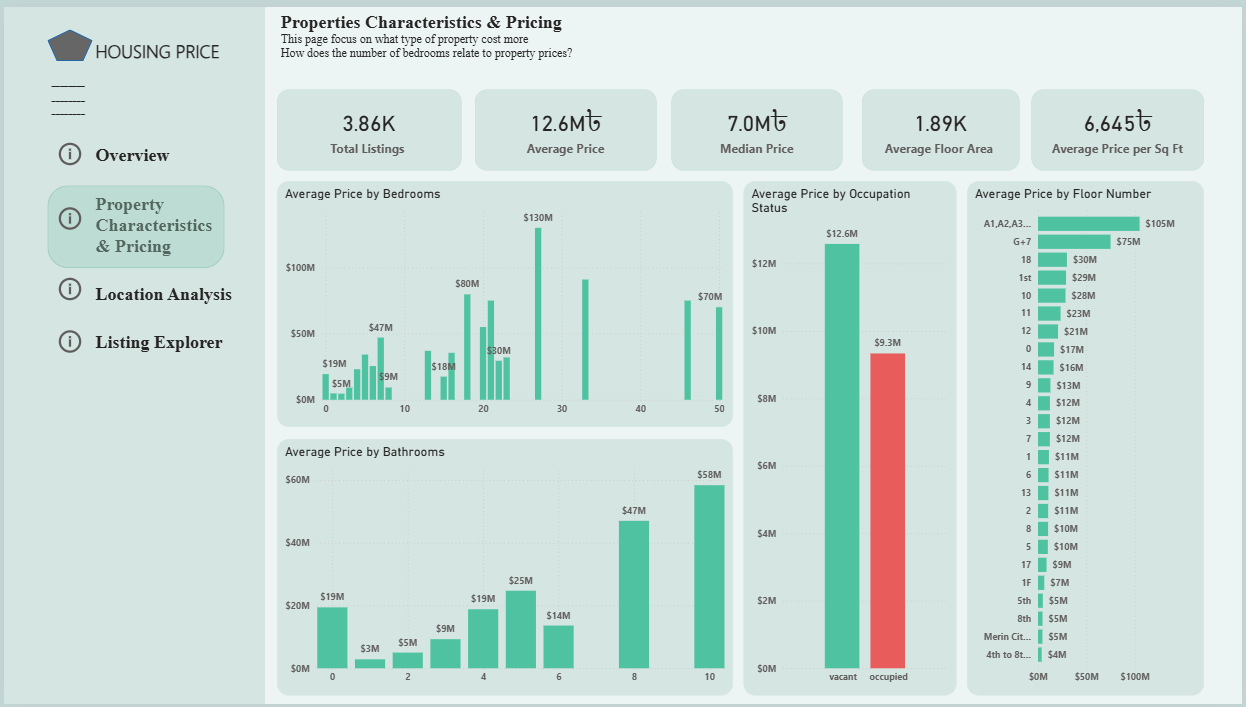

The page's visual inventory and layout, read from the dashboard file:
{"tool":"powerbi","page":{"name":"Property Characteristics and Pricing ","canvas":[1650,930],"ordinal":1},"visuals":[{"type":"clusteredColumnChart","title":"Average Price by Bedrooms","fields":{"Y":["Avg(house pricing.Price_in_taka)"],"Category":["house pricing.Bedrooms"]},"box":[364,232,608,328],"z":0},{"type":"clusteredColumnChart","title":"Average Price by Bathrooms","fields":{"Y":["Avg(house pricing.Price_in_taka)"],"Category":["house pricing.Bathrooms"]},"box":[364,576,608,342],"z":1000},{"type":"clusteredBarChart","title":"Average Price by Floor Number","fields":{"Category":["house pricing.Floor_no"],"Y":["Avg(house pricing.Price_in_taka)"]},"box":[1284,232,316,686],"z":2000},{"type":"clusteredColumnChart","title":"Average Price by Occupation Status","fields":{"Y":["Avg(house pricing.Price_in_taka)"],"Category":["house pricing.Occupancy_status"]},"box":[986,232,284,686],"z":3000},{"type":"card","fields":{"Values":["Avg(house pricing.Price_in_taka)"]},"box":[628,110,242,108],"z":4000},{"type":"card","fields":{"Values":["Median(house pricing.Price_in_taka)"]},"box":[890,110,228,108],"z":5000},{"type":"card","fields":{"Values":["Avg(house pricing.Floor_area)"]},"box":[1144,110,210,108],"z":6000},{"type":"card","fields":{"Values":["house pricing.Price per Sq Ft"]},"box":[1370,110,230,108],"z":7000},{"type":"card","fields":{"Values":["CountNonNull(house pricing.Description )"]},"box":[364,110,246,108],"z":8000},{"type":"textbox","box":[0,0,348,930],"z":9000},{"type":"shape","box":[58,30,60,42],"z":10000},{"type":"actionButton","box":[68,356,50,40],"z":11000},{"type":"actionButton","box":[68,176,50,40],"z":12000},{"type":"shape","box":[58,238,236,110],"z":13000},{"type":"actionButton","box":[68,262,50,40],"z":14000},{"type":"actionButton","box":[68,426,50,40],"z":15000},{"type":"textbox","box":[364,0,444,88],"z":16000}]}

Visuals, with their boxes on the page's 1650x930 design canvas (x1, y1, x2, y2). These are canvas units, not pixel positions in the 1246x707 screenshot, which may show the page scaled, cropped or inside an application window:
"Average Price by Bedrooms" clusteredColumnChart: pyautogui.locateOnScreen(364, 232, 972, 560)
"Average Price by Bathrooms" clusteredColumnChart: pyautogui.locateOnScreen(364, 576, 972, 918)
"Average Price by Floor Number" clusteredBarChart: pyautogui.locateOnScreen(1284, 232, 1600, 918)
"Average Price by Occupation Status" clusteredColumnChart: pyautogui.locateOnScreen(986, 232, 1270, 918)
card - Avg(house pricing.Price_in_taka): pyautogui.locateOnScreen(628, 110, 870, 218)
card - Median(house pricing.Price_in_taka): pyautogui.locateOnScreen(890, 110, 1118, 218)
card - Avg(house pricing.Floor_area): pyautogui.locateOnScreen(1144, 110, 1354, 218)
card - house pricing.Price per Sq Ft: pyautogui.locateOnScreen(1370, 110, 1600, 218)
card - CountNonNull(house pricing.Description ): pyautogui.locateOnScreen(364, 110, 610, 218)
textbox: pyautogui.locateOnScreen(0, 0, 348, 930)
shape: pyautogui.locateOnScreen(58, 30, 118, 72)
actionButton: pyautogui.locateOnScreen(68, 356, 118, 396)
actionButton: pyautogui.locateOnScreen(68, 176, 118, 216)
shape: pyautogui.locateOnScreen(58, 238, 294, 348)
actionButton: pyautogui.locateOnScreen(68, 262, 118, 302)
actionButton: pyautogui.locateOnScreen(68, 426, 118, 466)
textbox: pyautogui.locateOnScreen(364, 0, 808, 88)
